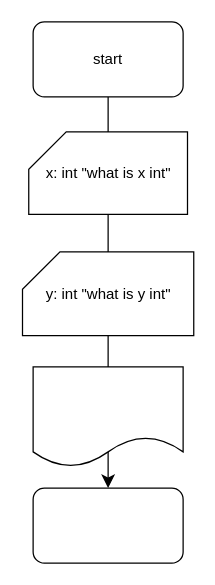
This 215x585 diagram has some shape labels left out. Each missing label, with the centre of its shape:
end: point (107, 525)
print (x - y): point (107, 416)
